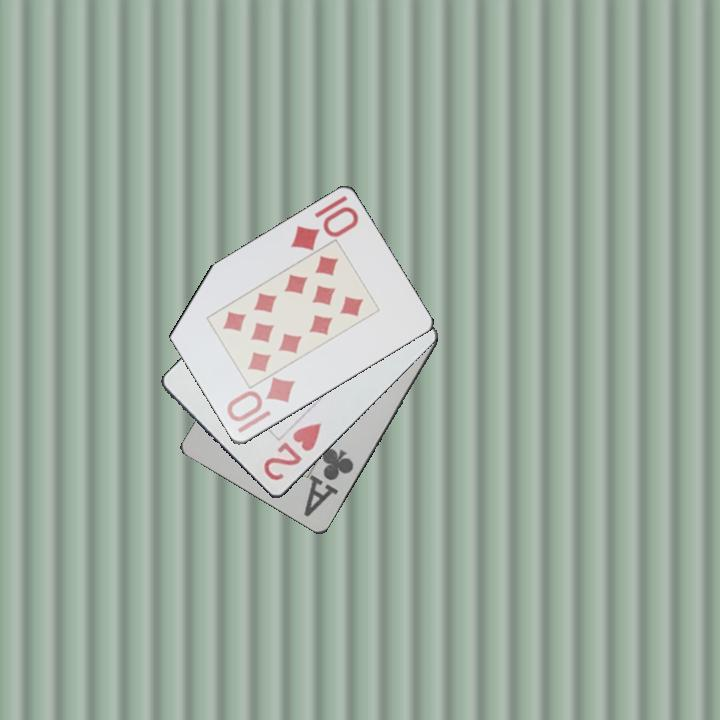2h: (260, 420, 325, 484)
Ac: (300, 445, 357, 520)
Td: (223, 375, 298, 437), (287, 192, 362, 254)
